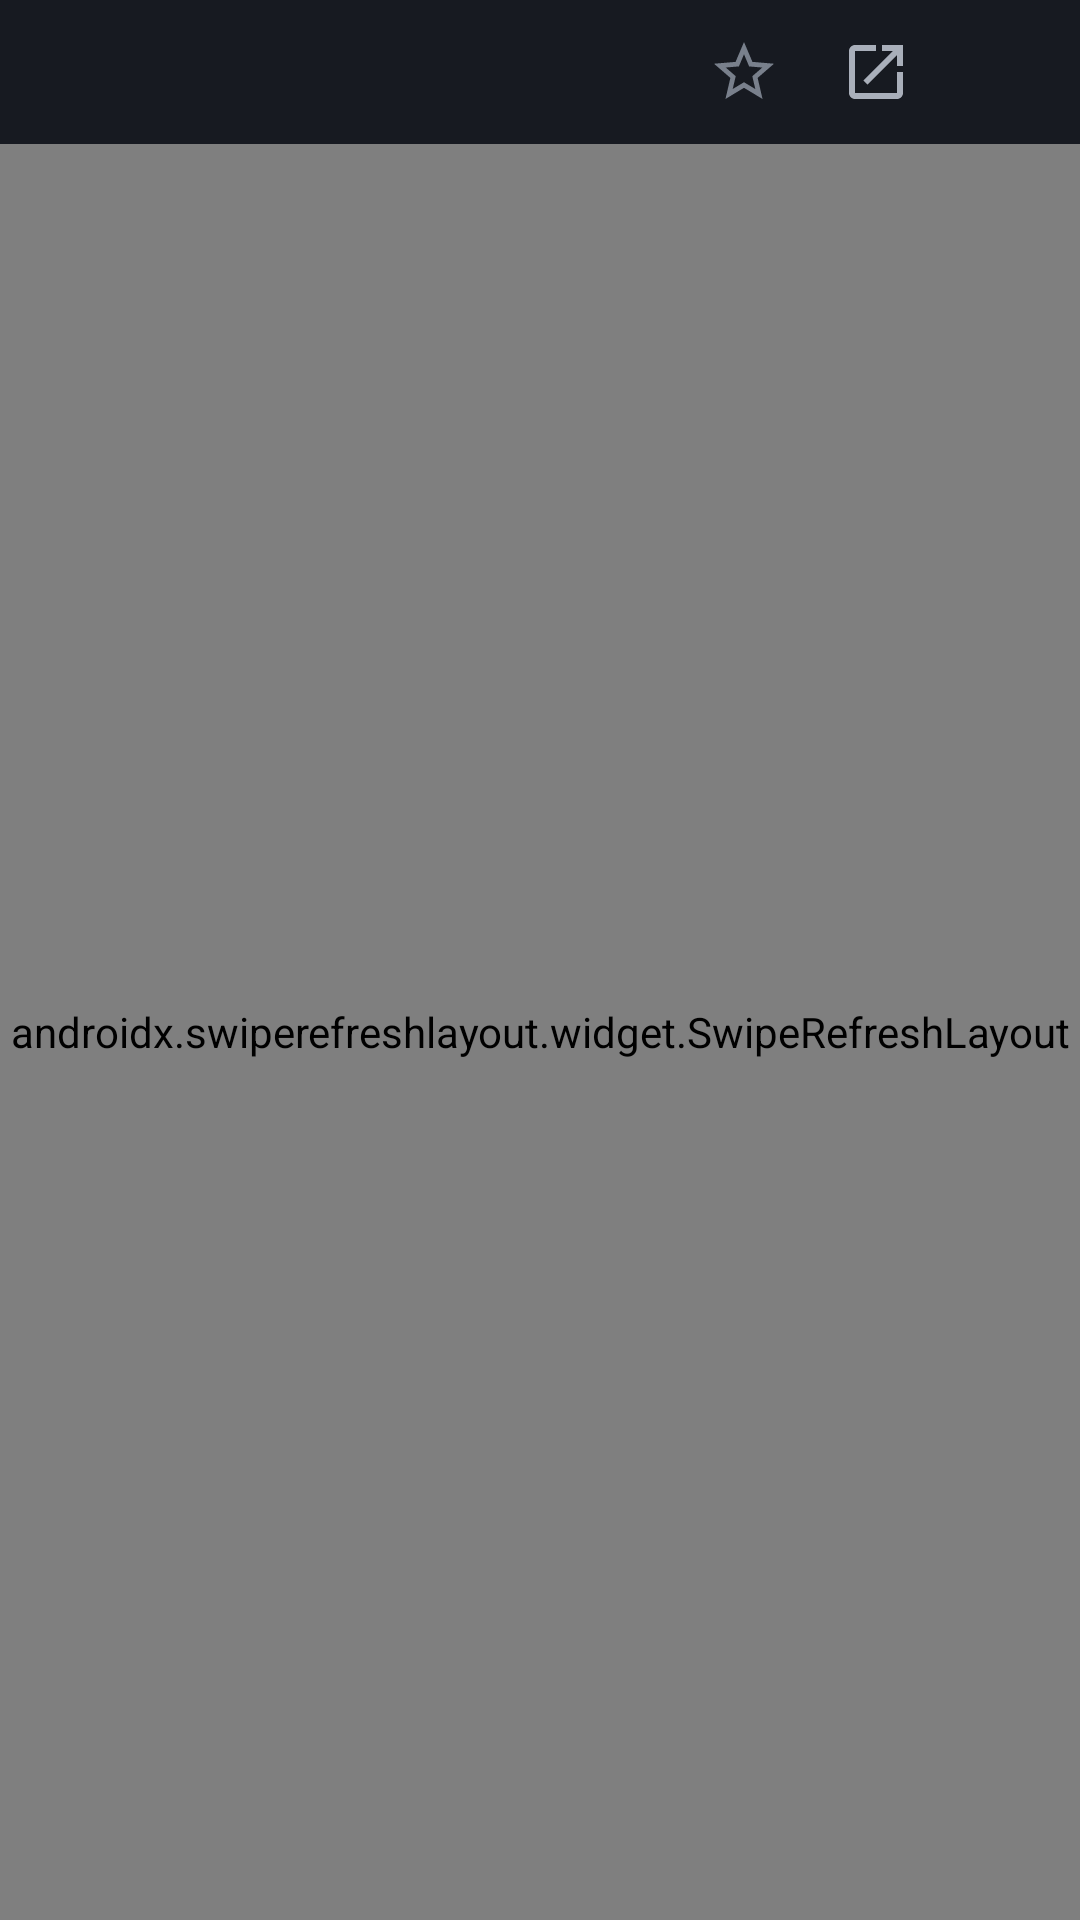

Icons on this 1080px x 1920px Android screen, each with its box as Rect(x1, y1, x2, y2):
브라우저로 열기: Rect(849, 45, 903, 99)
즐겨찾기: Rect(715, 43, 773, 99)
